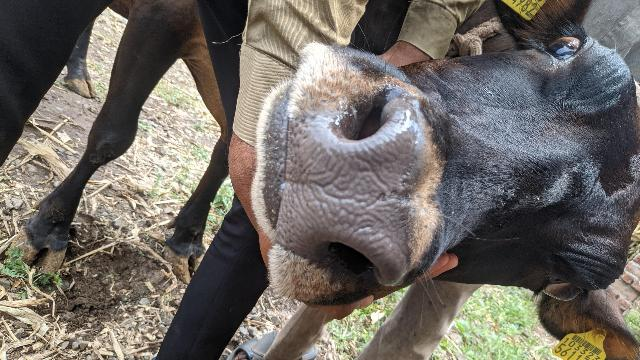Muzzle: (300, 120, 400, 248)
